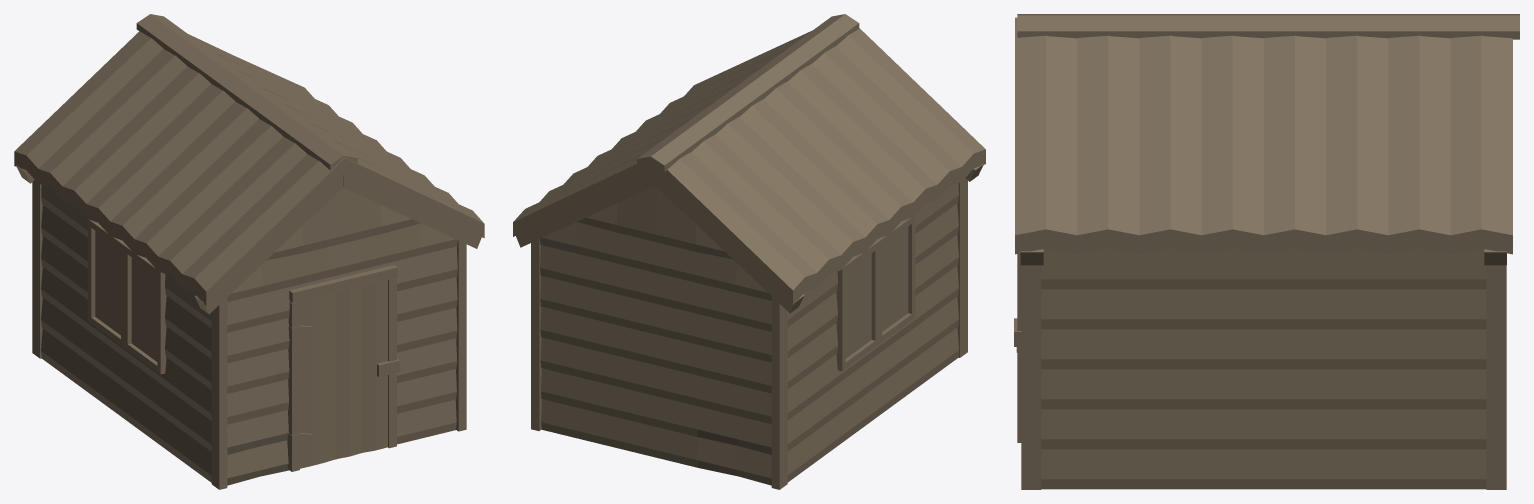
Rendered from schuur.fbx.
3 renders of one model, left to right at view 1: azimuth 30°, elevation 25°; view 2: azimuth 150°, elevation 25°; view 3: azimuth 270°, elevation 25°, orthographic. The views are drawn at different scales.
Visible parts, largest first — view 1: Cube.003, Cube.004, Cube.011, Cube.007, Cube.010, Cube.013, Cube.012, Cube.005, Cube.006, Cube.008; view 2: Cube.004, Cube.003, Cube.011, Cube.010, Cube.013, Cube.012; view 3: Cube.003, Cube.011, Cube.010, Cube.004, Cube.005.
Boxes of the visible parts, x1,y1,x2,y2 form: Cube.003: (14, 24, 484, 305); Cube.004: (16, 165, 481, 489); Cube.011: (41, 185, 211, 482); Cube.007: (300, 280, 387, 468); Cube.010: (136, 14, 357, 170); Cube.013: (95, 231, 157, 361); Cube.012: (88, 219, 166, 374); Cube.005: (287, 278, 396, 471); Cube.006: (289, 265, 397, 303); Cube.008: (287, 325, 312, 447); Cube.004: (516, 163, 983, 489); Cube.003: (513, 21, 985, 304); Cube.011: (787, 183, 958, 482); Cube.010: (637, 14, 859, 171); Cube.013: (845, 226, 908, 358); Cube.012: (836, 215, 915, 371); Cube.003: (1015, 15, 1512, 254); Cube.011: (1041, 248, 1486, 489); Cube.010: (1017, 14, 1519, 39); Cube.004: (1020, 249, 1506, 489); Cube.005: (1017, 253, 1021, 442).
Size of the model in its own units: 933 by 976 by 1127.
